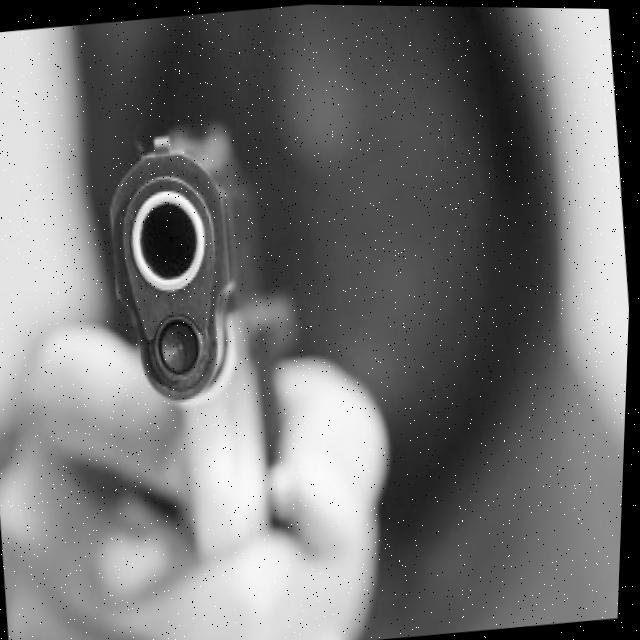pistol: (88, 96, 298, 561)
